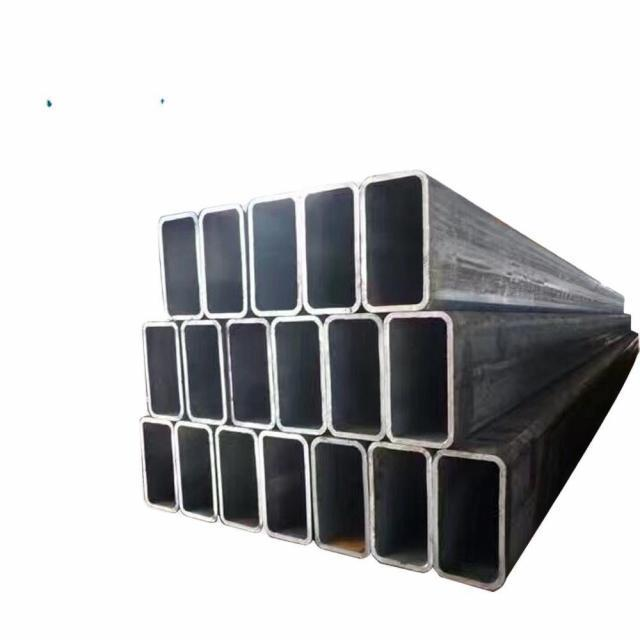pipe: (433, 447, 511, 590), (383, 311, 461, 452), (363, 169, 437, 315), (324, 311, 392, 444), (300, 178, 365, 317), (369, 438, 434, 575), (306, 435, 373, 563), (270, 315, 334, 438), (246, 188, 306, 317), (255, 427, 315, 550), (198, 200, 253, 321), (224, 314, 279, 433), (179, 317, 234, 427), (156, 208, 209, 322), (213, 425, 264, 537), (137, 320, 186, 421), (174, 420, 220, 526), (139, 414, 180, 517)
